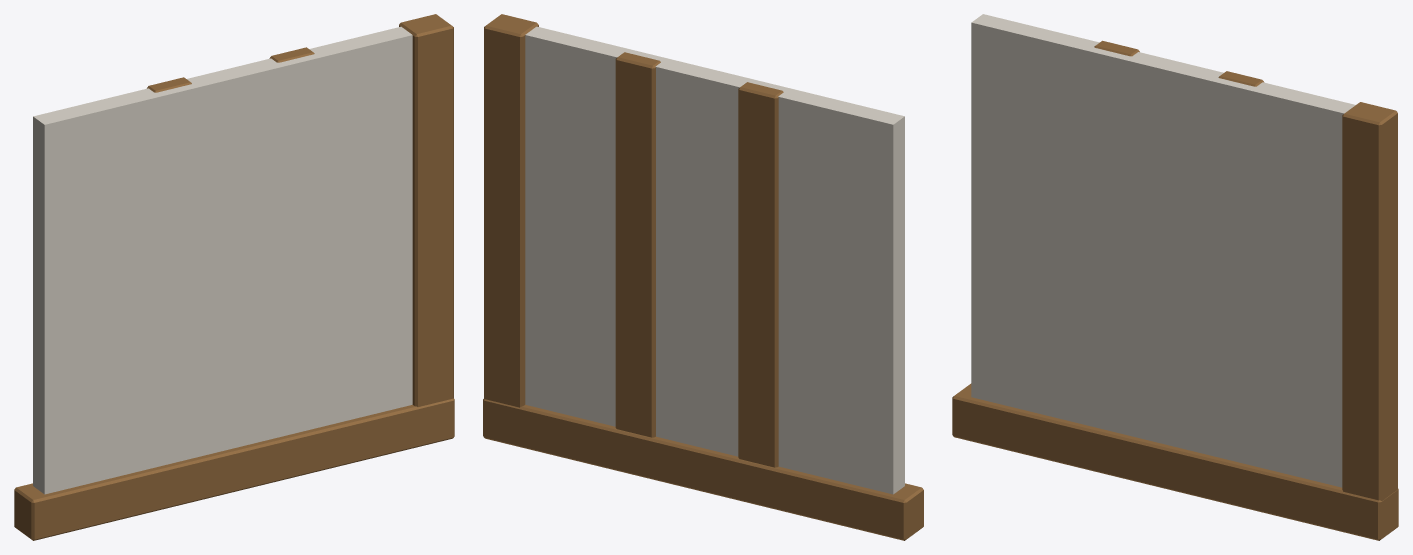
Rendered from Wall2V.fbx.
3 renders of one model, left to right at view 1: azimuth 30°, elevation 25°; view 2: azimuth 150°, elevation 25°; view 3: azimuth 330°, elevation 25°, orthographic.
Visible parts, largest first — view 1: Cube.085, Cube.113, Cube.099; view 2: Cube.085, Cube.113, Cube.099, Cube.120, Cube.124; view 3: Cube.085, Cube.099, Cube.113.
Part boxes in pixels (left/top/right/bottom): Cube.085: left=33, top=26, right=412, bottom=494; Cube.113: left=14, top=398, right=454, bottom=540; Cube.099: left=399, top=14, right=453, bottom=406; Cube.085: left=525, top=26, right=904, bottom=494; Cube.113: left=483, top=398, right=923, bottom=540; Cube.099: left=484, top=14, right=538, bottom=407; Cube.120: left=738, top=82, right=783, bottom=467; Cube.124: left=615, top=52, right=660, bottom=437; Cube.085: left=971, top=14, right=1355, bottom=487; Cube.099: left=1342, top=102, right=1397, bottom=500; Cube.113: left=952, top=383, right=1398, bottom=540.
Size of the model in its own units: 216 by 202 by 17.27.
